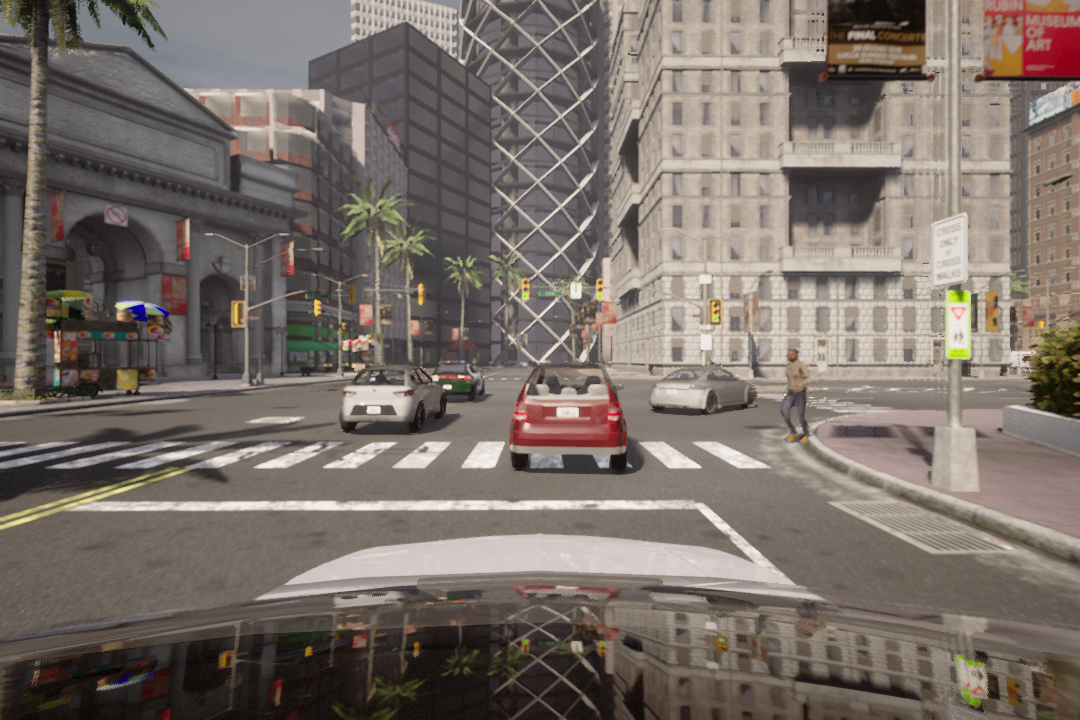TrafficLight: (706, 297, 721, 326), (517, 277, 532, 302), (597, 279, 604, 303)
TrafficSign: (103, 207, 127, 226)
walkside: (1, 438, 796, 481)
